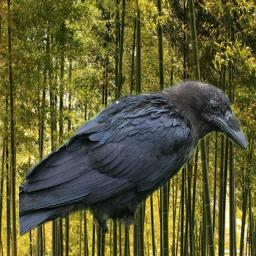Crow: (19, 78, 250, 238)
